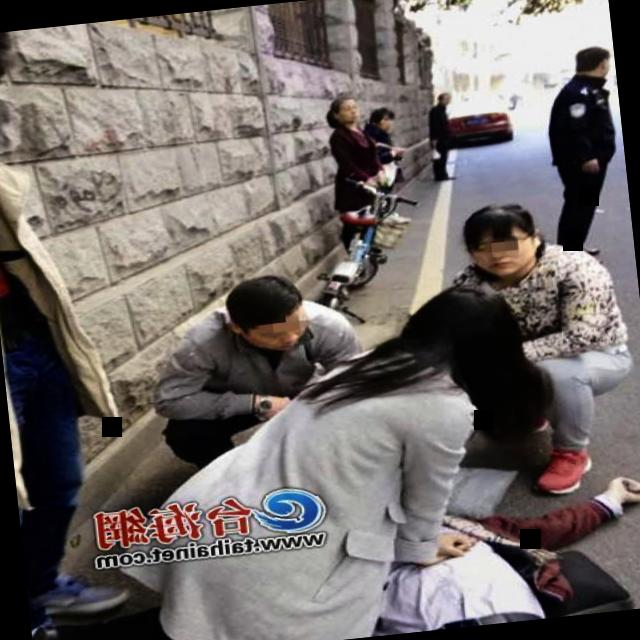Fall-Detected: (37, 445, 640, 640)
